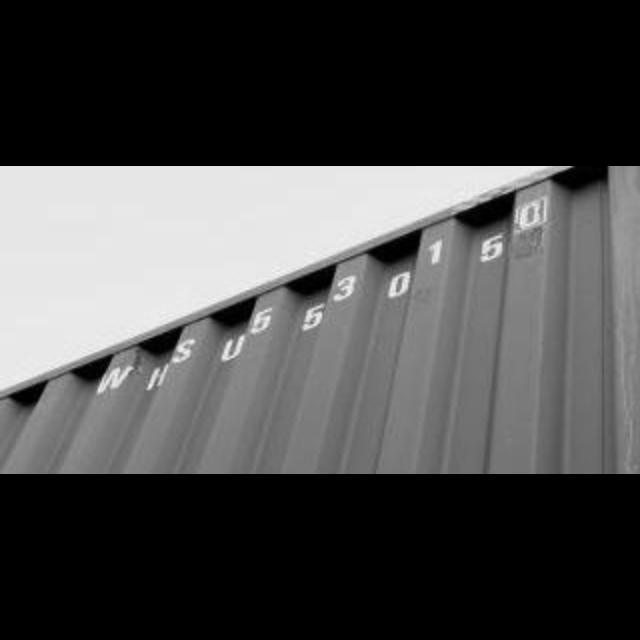0: (514, 191, 548, 235), (386, 268, 414, 302)
1: (422, 234, 448, 268)
3: (334, 270, 358, 306)
5: (475, 228, 507, 266), (299, 302, 329, 332), (250, 303, 274, 335)
h: (144, 358, 170, 392)
s: (172, 336, 200, 368)
u: (218, 330, 250, 366)
w: (89, 362, 138, 398)
